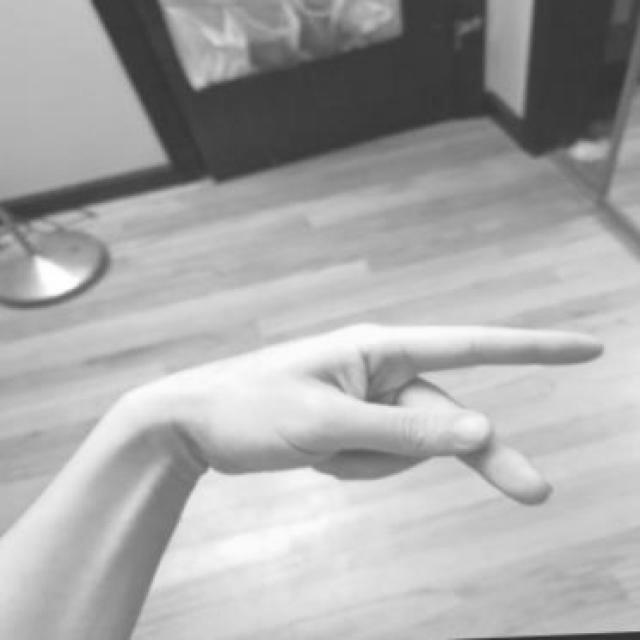P: (192, 307, 617, 526)
